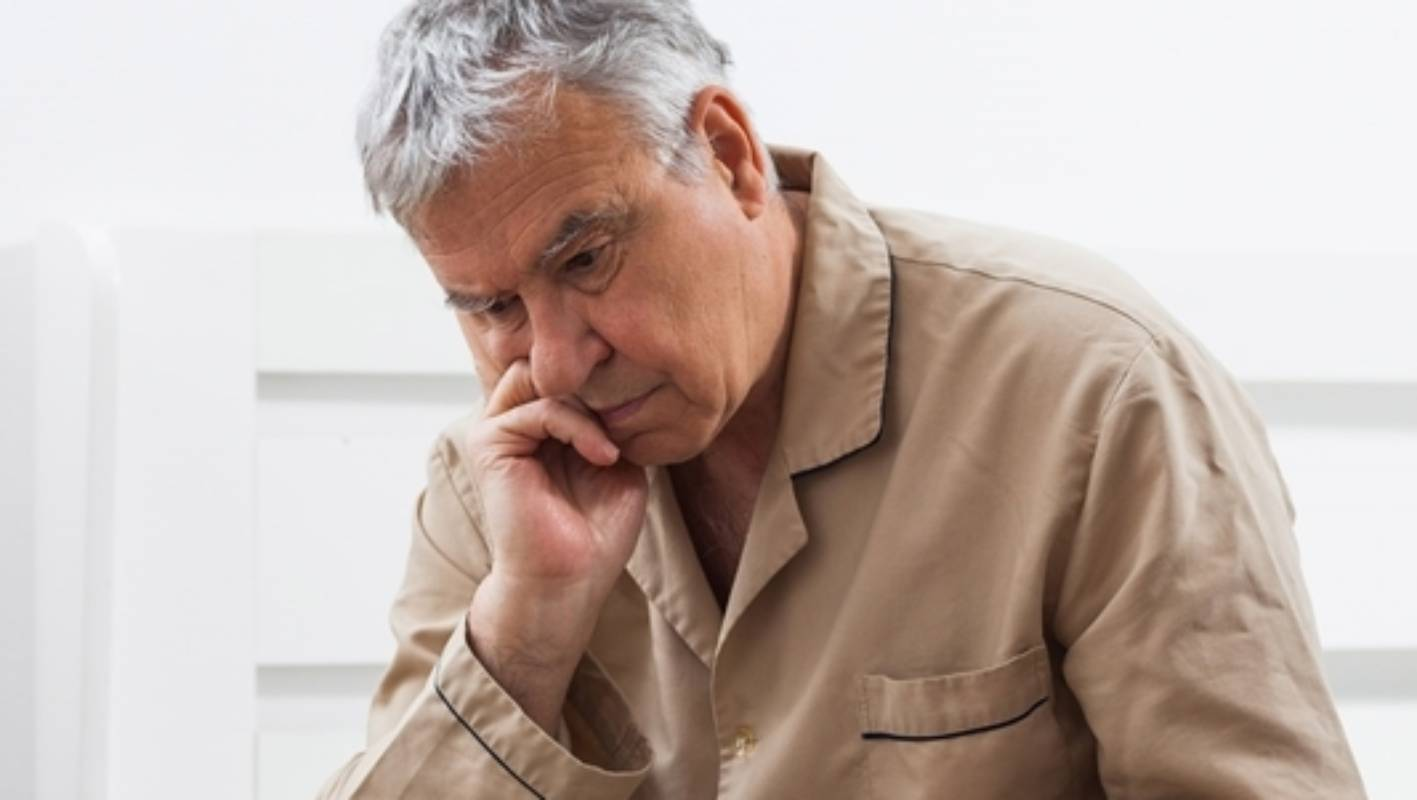human: (289, 2, 1387, 800)
